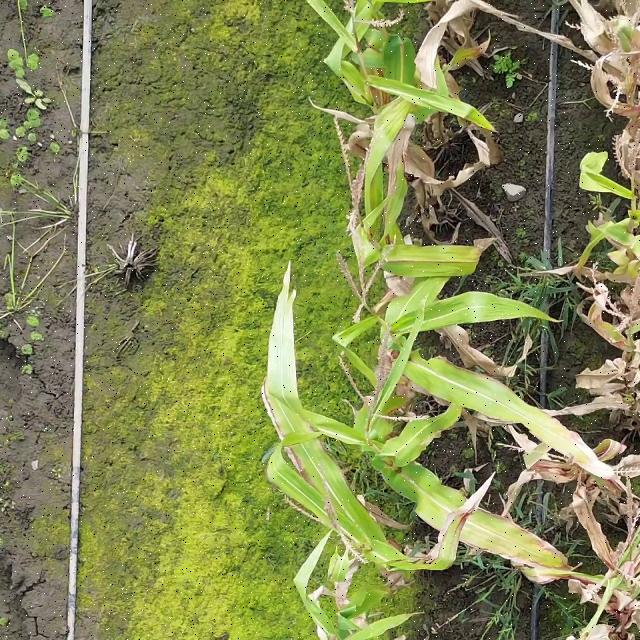northern-leaf-blight: (427, 484, 575, 586)
